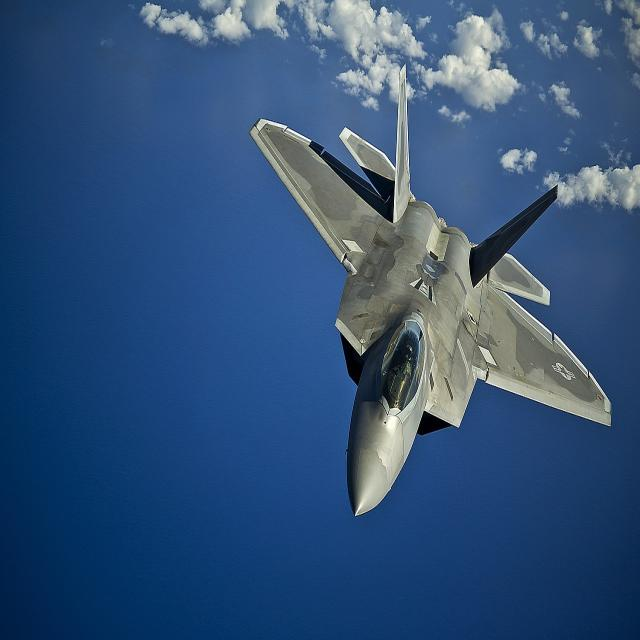MIL_Plane: (248, 64, 612, 519)
